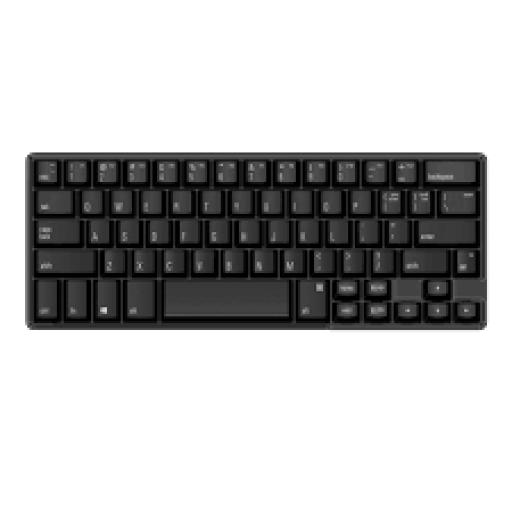KEYBOARD-2: (25, 152, 485, 328)
